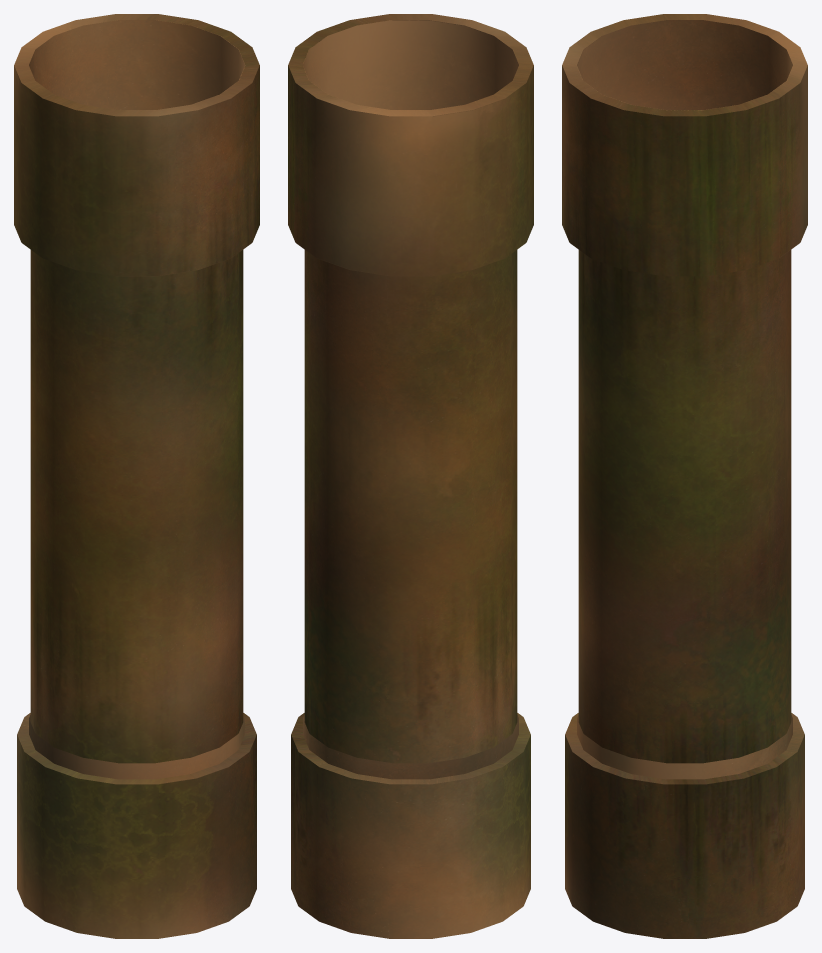
Rendered from tuberia_rectaaaa.fbx.
3 views of the same model, side by side, from view 1: azimuth 30°, elevation 25°; view 2: azimuth 150°, elevation 25°; view 3: azimuth 270°, elevation 25° (orthographic).
Parts seen in each view (by area): view 1: Cylinder.011; view 2: Cylinder.011; view 3: Cylinder.011.
Boxes of the visible parts, bbox=[...] form: Cylinder.011: bbox=[14, 14, 259, 938]; Cylinder.011: bbox=[288, 14, 533, 938]; Cylinder.011: bbox=[562, 14, 807, 938].
Bounding box in the file's own units: 43.67 × 164 × 44.34.
Materials: 1 (1 with a texture image).
